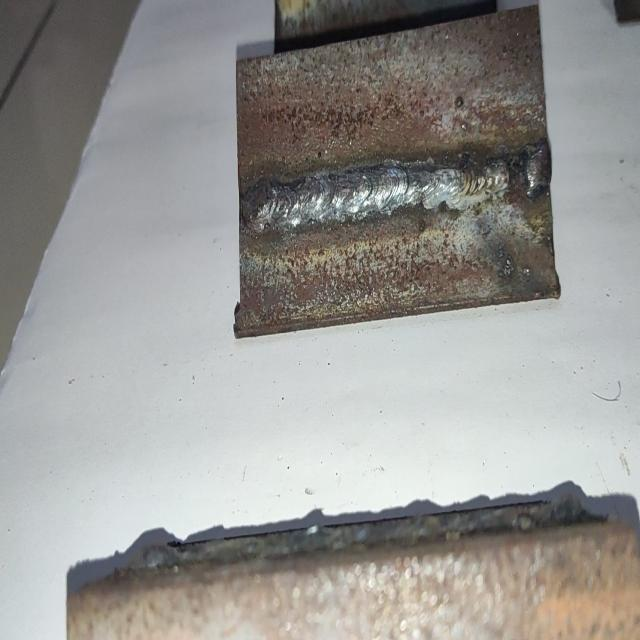Defect: (497, 134, 554, 202)
Welding Line: (240, 146, 550, 231)
Workpiece: (231, 7, 568, 332)
